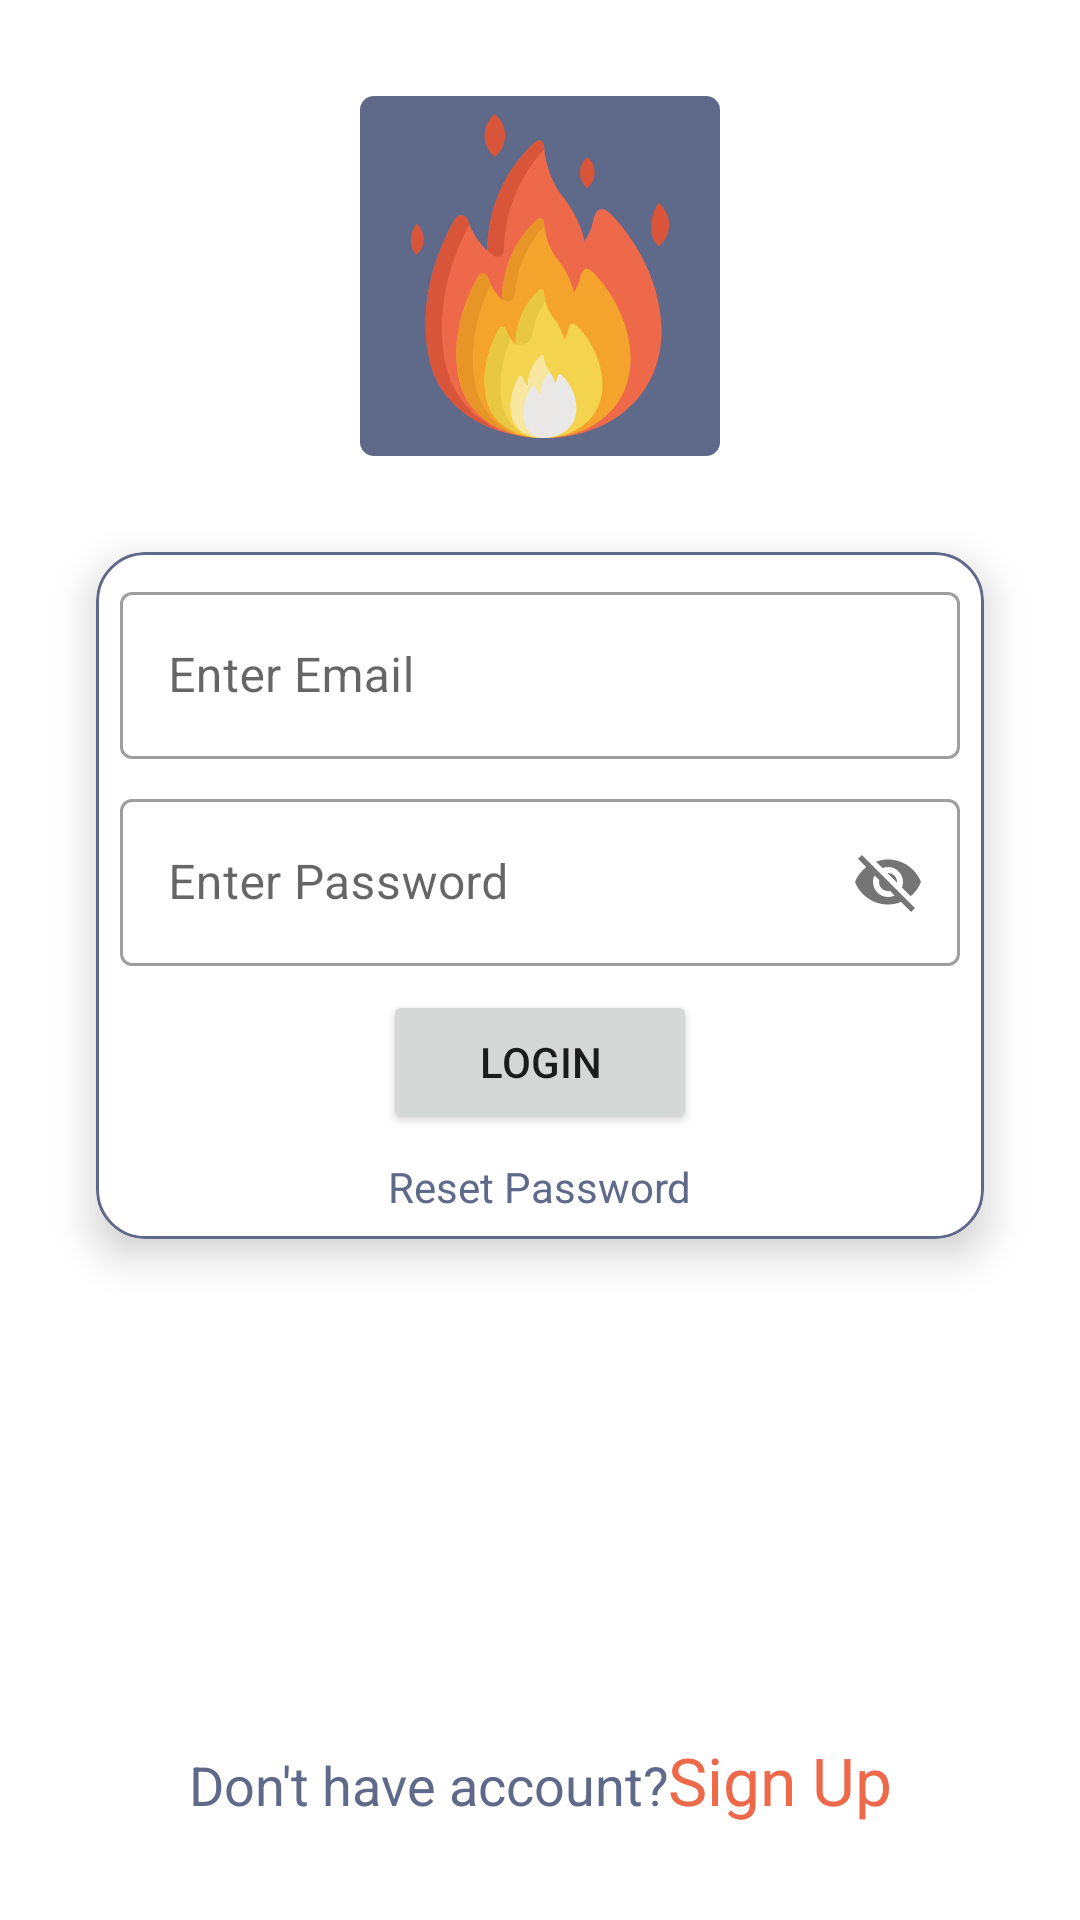

Where icons sit on this 1080px x 1920px app screen, as (x1, y1, x2, y2):
fire login activity: (360, 96, 720, 456)
